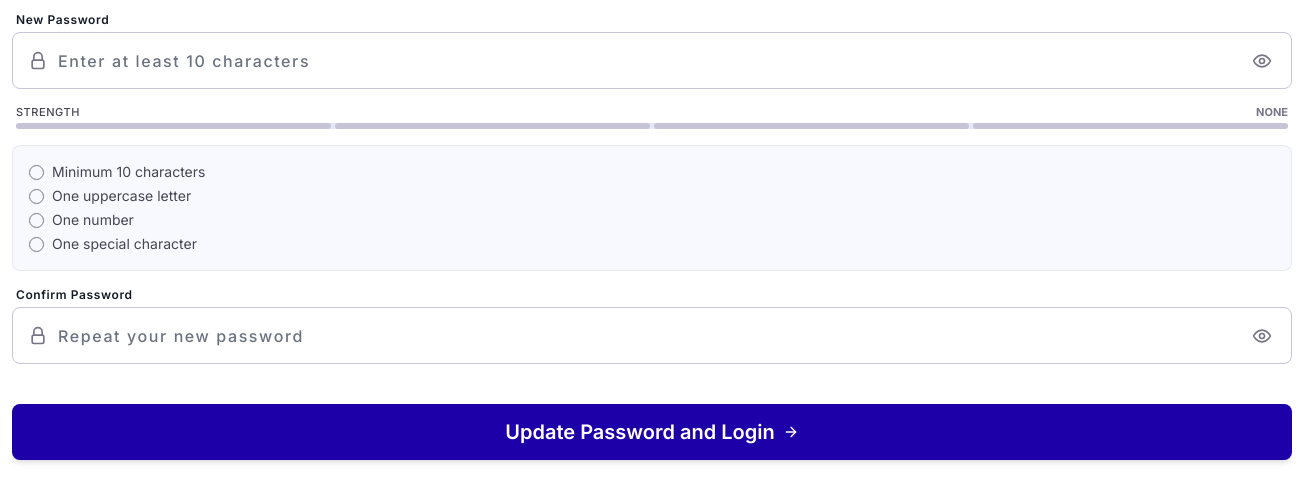
it: ResetPasswordForm › blocks weak password submissions
In the password field labelled "New Password": [652, 60] box [12, 32, 1292, 89], type "weak"
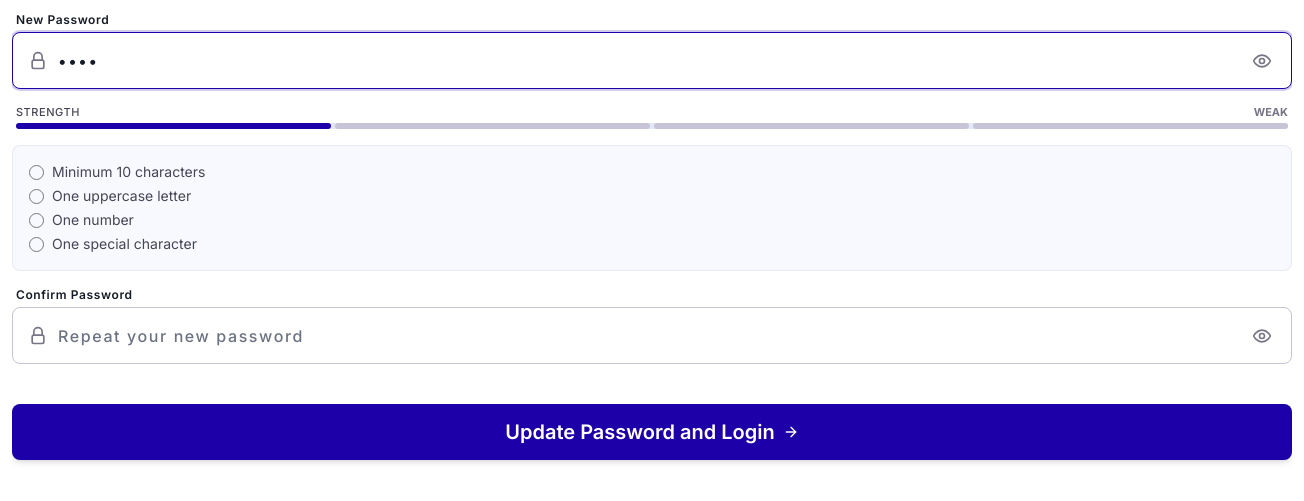
In the password field labelled "Confirm Password": [652, 336] box [12, 307, 1292, 364], type "weak"
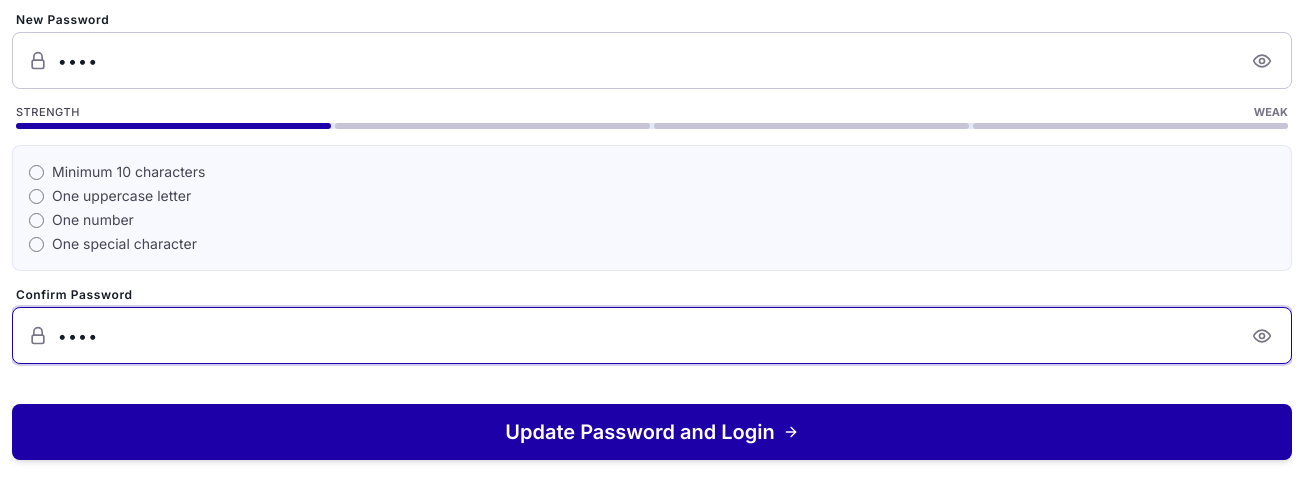
Click the button "Update Password and Login": [652, 432] box [12, 404, 1292, 460]
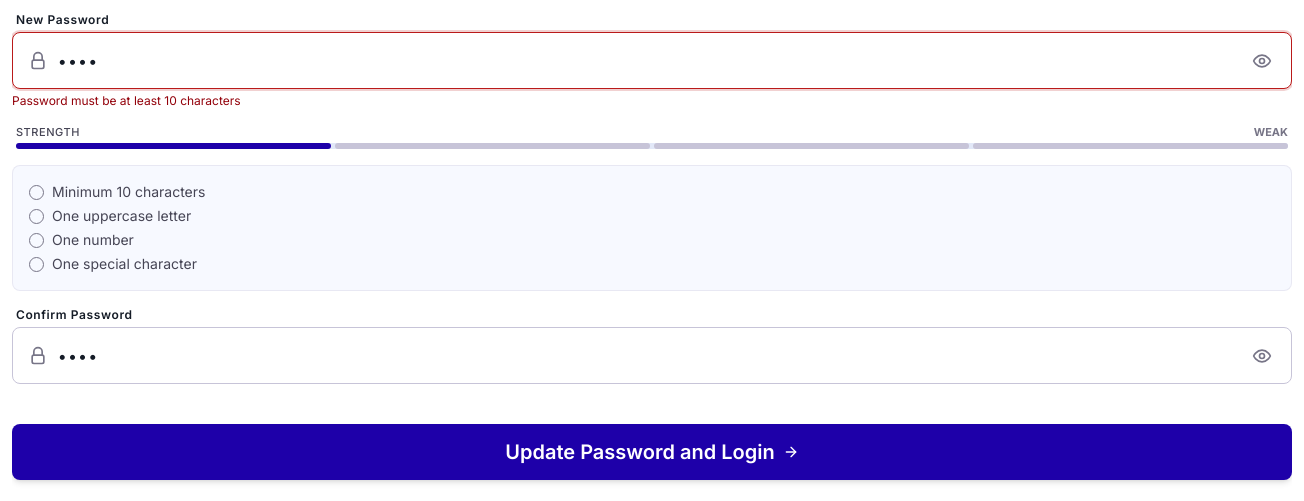
Expected: the text "Password must be at least 10 characters" is shown, [12, 93, 241, 108]
